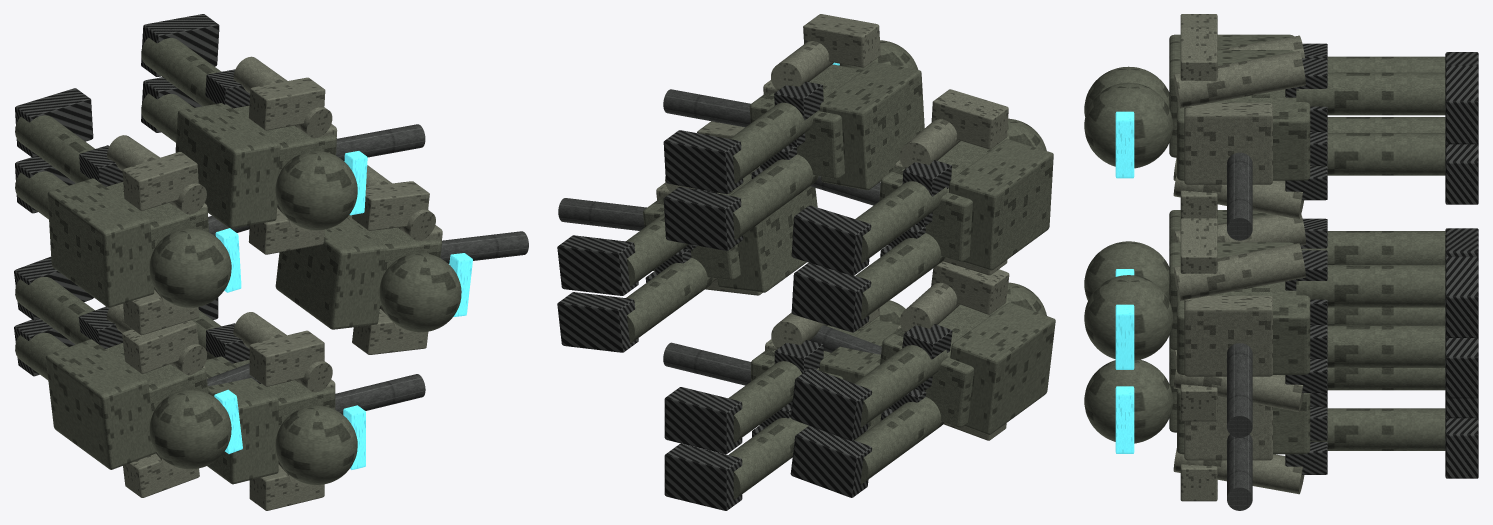
The model's file is v-u01-vanguard-line-infantry-lod0.glb.
The picture shows the model from 3 angles, left to right: view 1: azimuth 30°, elevation 25°; view 2: azimuth 150°, elevation 25°; view 3: azimuth 270°, elevation 25°; orthographic projection. The views are drawn at different scales.
Visible parts, largest first — view 1: soldier_3_backpack, soldier_4_backpack, soldier_1_backpack, soldier_0_backpack, soldier_4_helmet, soldier_3_helmet, soldier_2_helmet, soldier_1_helmet, soldier_0_helmet, soldier_2_backpack, soldier_3_shoulder_1, soldier_2_shoulder_1 (+42 smaller); view 2: soldier_3_backpack, soldier_4_backpack, soldier_1_backpack, soldier_0_backpack, soldier_4_boot_1, soldier_3_boot_1, soldier_2_boot_-1, soldier_2_boot_1, soldier_3_boot_-1, soldier_4_boot_-1, soldier_1_boot_1, soldier_1_boot_-1 (+37 smaller); view 3: soldier_1_chest, soldier_0_chest, soldier_1_leg_1, soldier_0_leg_1, soldier_2_leg_-1, soldier_1_leg_-1, soldier_0_leg_-1, soldier_0_helmet, soldier_1_helmet, soldier_2_helmet, soldier_0_torso, soldier_1_arm_1 (+52 smaller).
Boxes of the visible parts, x1,y1,x2,y2 form: soldier_3_backpack: (47, 178, 154, 307); soldier_4_backpack: (45, 339, 156, 469); soldier_1_backpack: (175, 103, 280, 228); soldier_0_backpack: (275, 218, 386, 329); soldier_4_helmet: (149, 389, 231, 469); soldier_3_helmet: (149, 228, 231, 307); soldier_2_helmet: (275, 405, 357, 484); soldier_1_helmet: (275, 151, 357, 230); soldier_0_helmet: (379, 253, 461, 332); soldier_2_backpack: (204, 356, 278, 484); soldier_3_shoulder_1: (122, 152, 198, 210); soldier_2_shoulder_1: (249, 330, 324, 386); soldier_3_backpack: (949, 139, 1053, 270); soldier_4_backpack: (950, 302, 1055, 434); soldier_1_backpack: (819, 62, 924, 190); soldier_0_backpack: (717, 178, 817, 292); soldier_4_boot_1: (790, 368, 872, 441); soldier_3_boot_1: (791, 205, 871, 275); soldier_2_boot_-1: (664, 443, 742, 510); soldier_2_boot_1: (664, 387, 742, 454); soldier_3_boot_-1: (791, 262, 871, 332); soldier_4_boot_-1: (790, 426, 872, 497); soldier_1_boot_1: (663, 130, 743, 194); soldier_1_boot_-1: (663, 187, 743, 250); soldier_1_chest: (1184, 102, 1272, 184); soldier_0_chest: (1184, 295, 1272, 376); soldier_1_leg_1: (1296, 72, 1445, 115); soldier_0_leg_1: (1296, 265, 1445, 307); soldier_2_leg_-1: (1310, 408, 1445, 450); soldier_1_leg_-1: (1310, 133, 1445, 175); soldier_0_leg_-1: (1327, 325, 1445, 367); soldier_0_helmet: (1084, 275, 1172, 360); soldier_1_helmet: (1084, 82, 1172, 168); soldier_2_helmet: (1084, 359, 1172, 443); soldier_0_torso: (1177, 281, 1310, 374); soldier_1_arm_1: (1173, 51, 1305, 108).
Size of what is drawn, in the model's own units: 3.06 by 2.65 by 2.13.
Materials: 5 (5 with a texture image).
